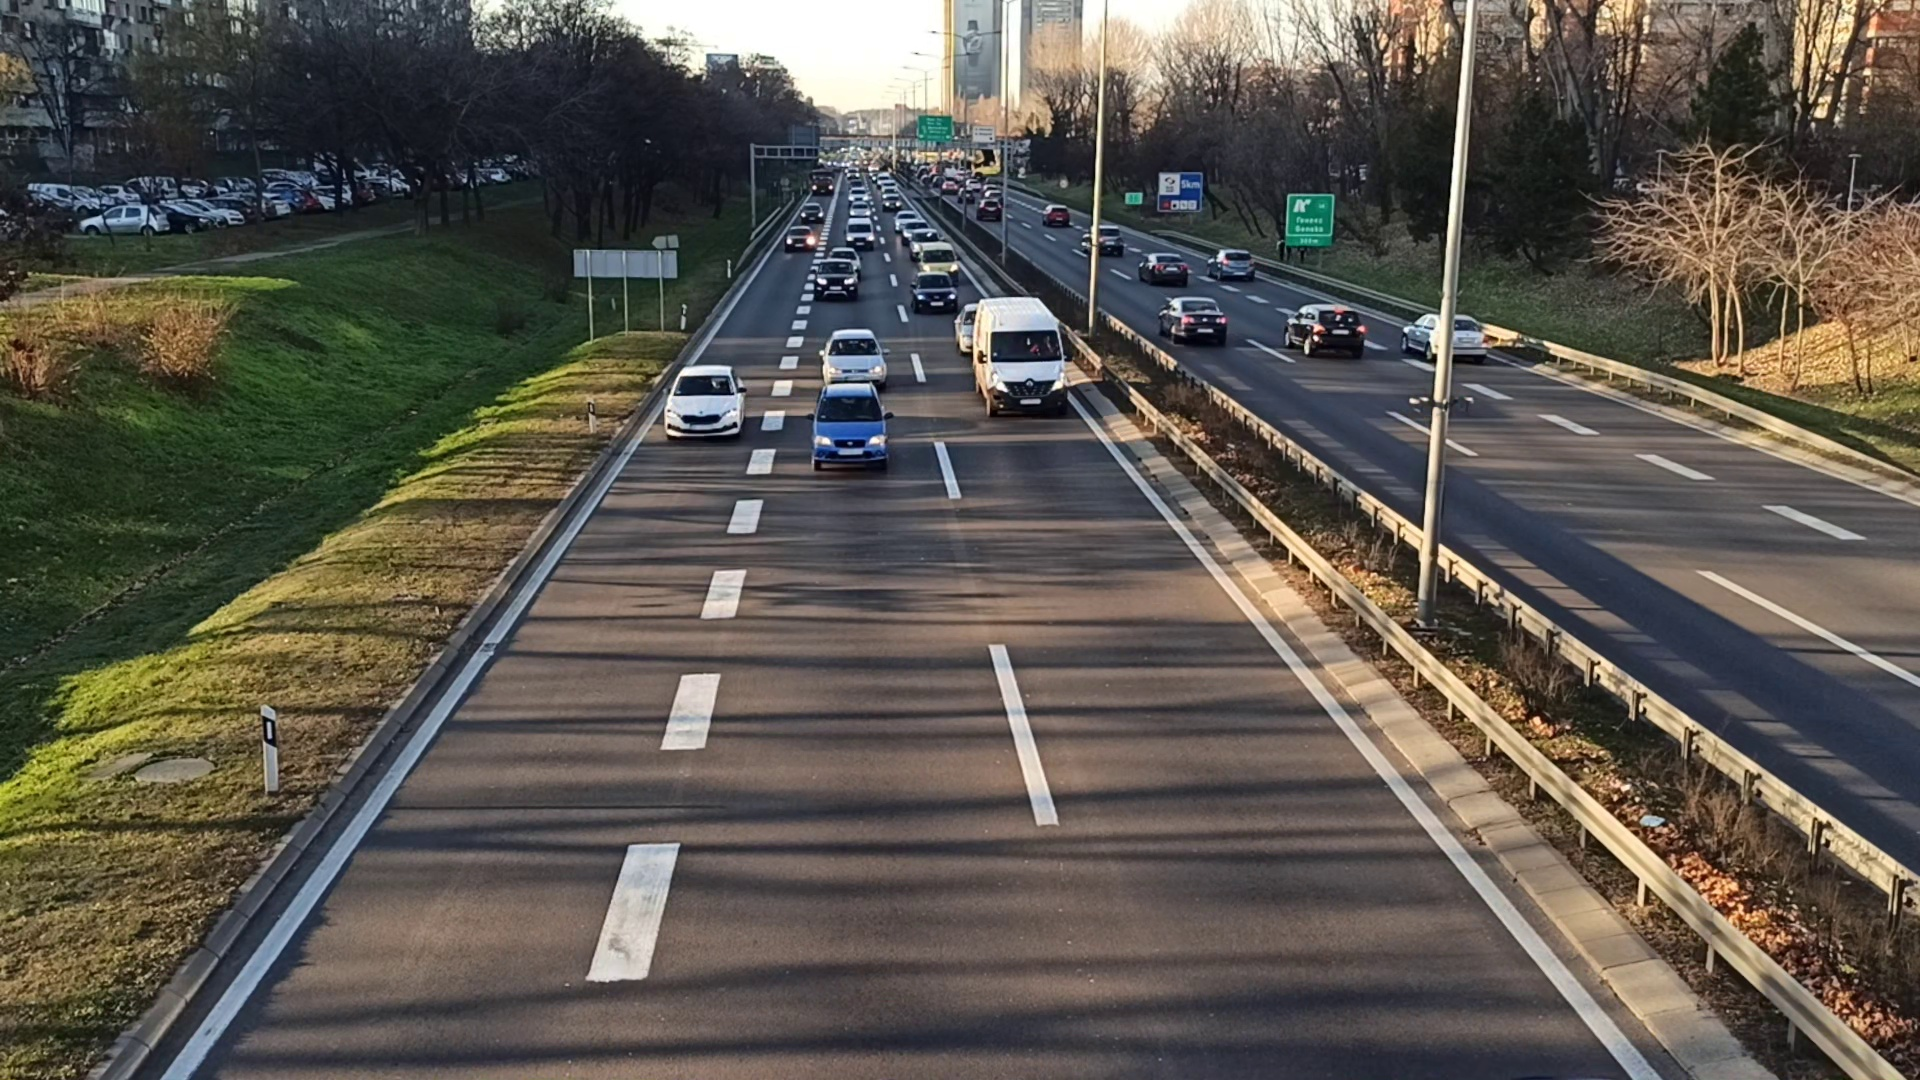car: (811, 390, 886, 469), (665, 367, 744, 440), (1403, 310, 1489, 363), (1284, 305, 1367, 356), (819, 330, 887, 384), (1156, 297, 1225, 343), (910, 274, 955, 313), (816, 260, 858, 298), (1211, 249, 1257, 284), (1135, 253, 1185, 284), (844, 216, 876, 247), (785, 225, 816, 252)
van: (975, 301, 1068, 411)
